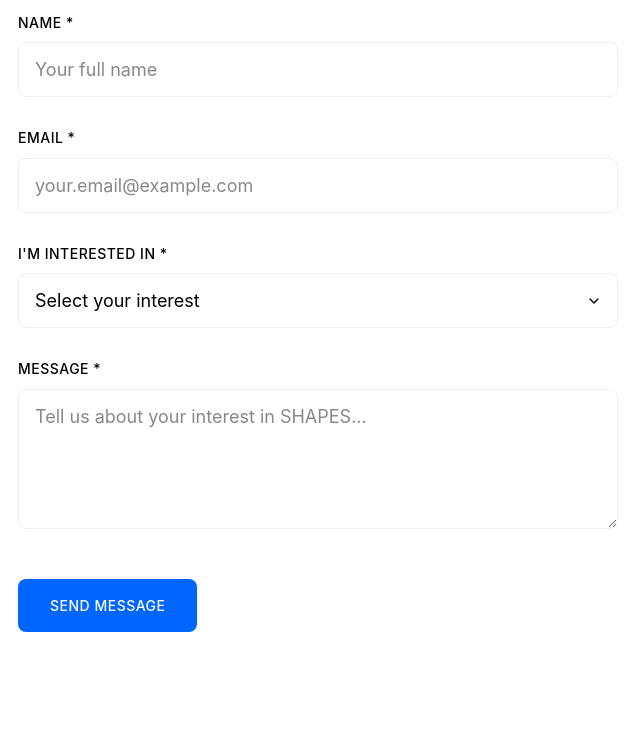
ContactForm › clears status message when user makes changes after submission
This screenshot has width=637, height=753.
Note: Fill out and submit form
In the field labelled "Name *": {"x": 318, "y": 70} [18,42,618,97], type "John Doe"
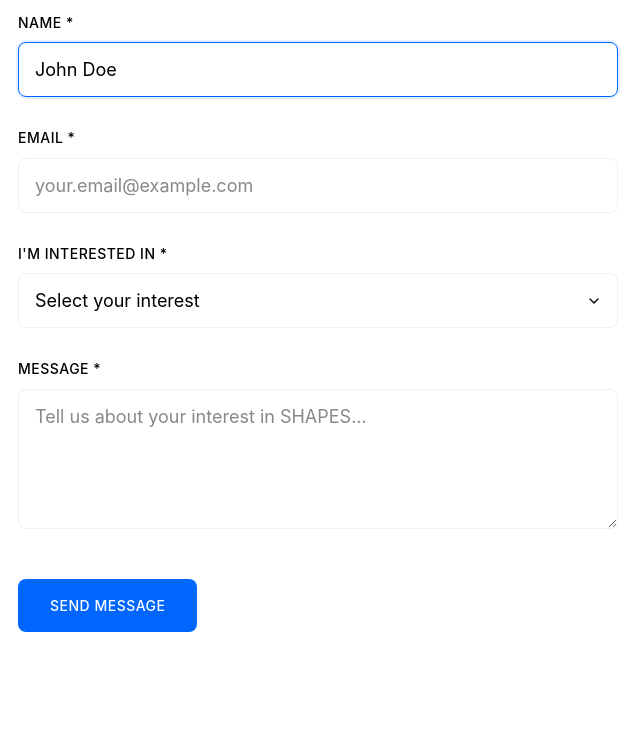
In the field labelled "Email *": {"x": 318, "y": 185} [18,158,618,213], type "john@example.com"
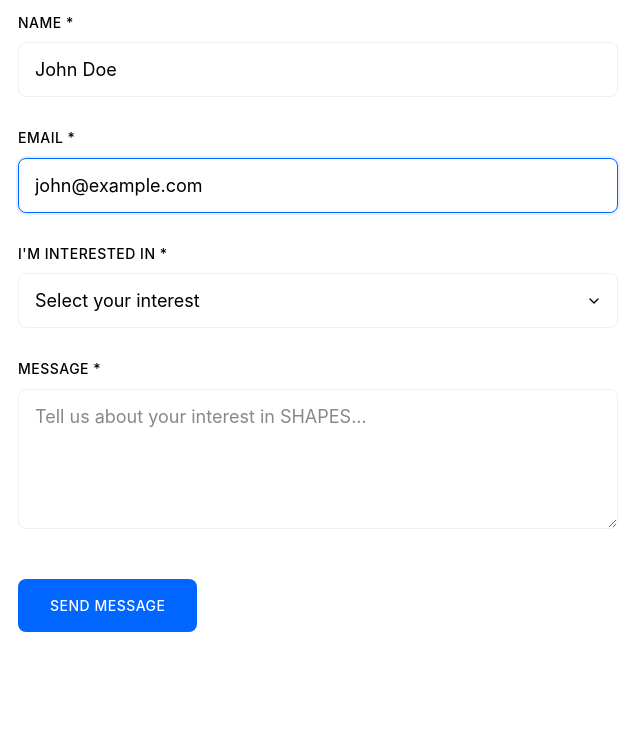
Select "Joining a workshop" in the dropdown labelled "I'm interested in *": {"x": 318, "y": 301} [18,273,618,328]
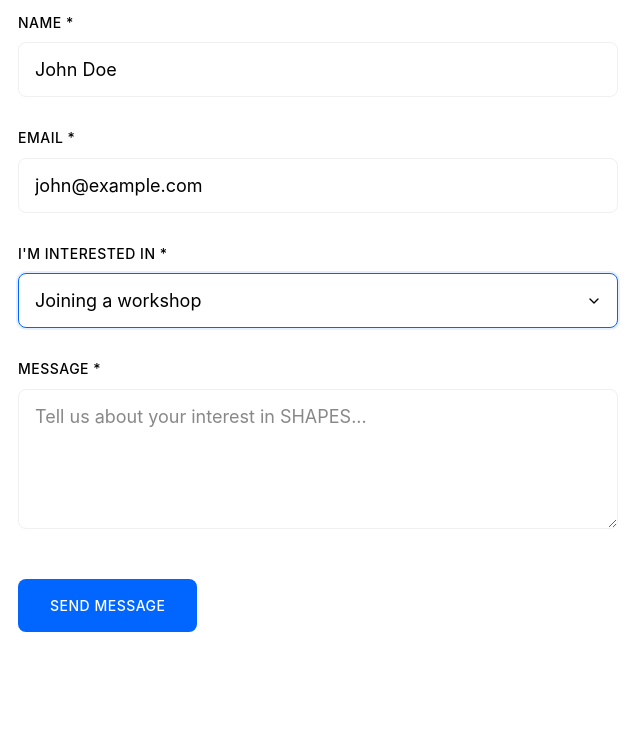
In the text box labelled "Message *": {"x": 318, "y": 459} [18,389,618,529], type "I am interested in joining a workshop."
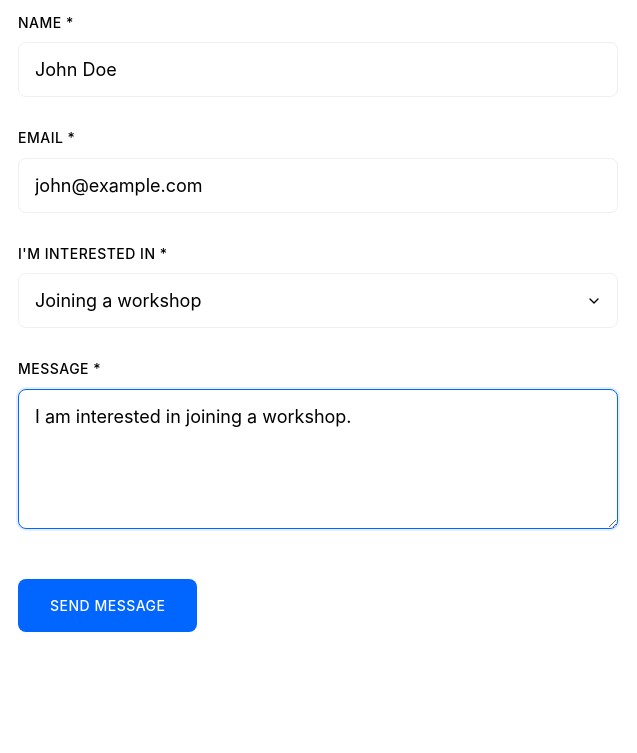
Click the button "Send Message": {"x": 108, "y": 605} [18,579,198,632]
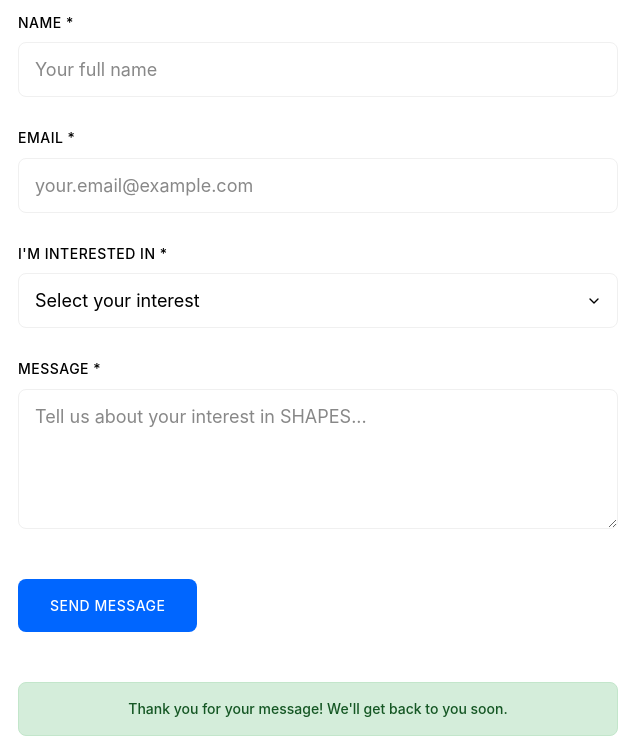
expect the text "Thank you for your message! We'll get back to you soon." is shown: met, box [18,682,618,736]
Note: Make a change to the form
In the field labelled "Name *": {"x": 318, "y": 70} [18,42,618,97], type "Jane"
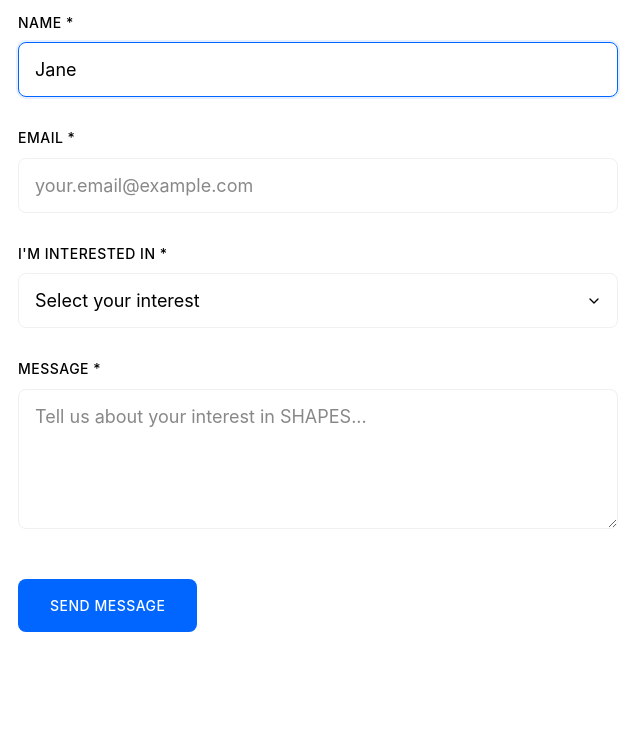
expect the text "Thank you for your message" is gone: met
